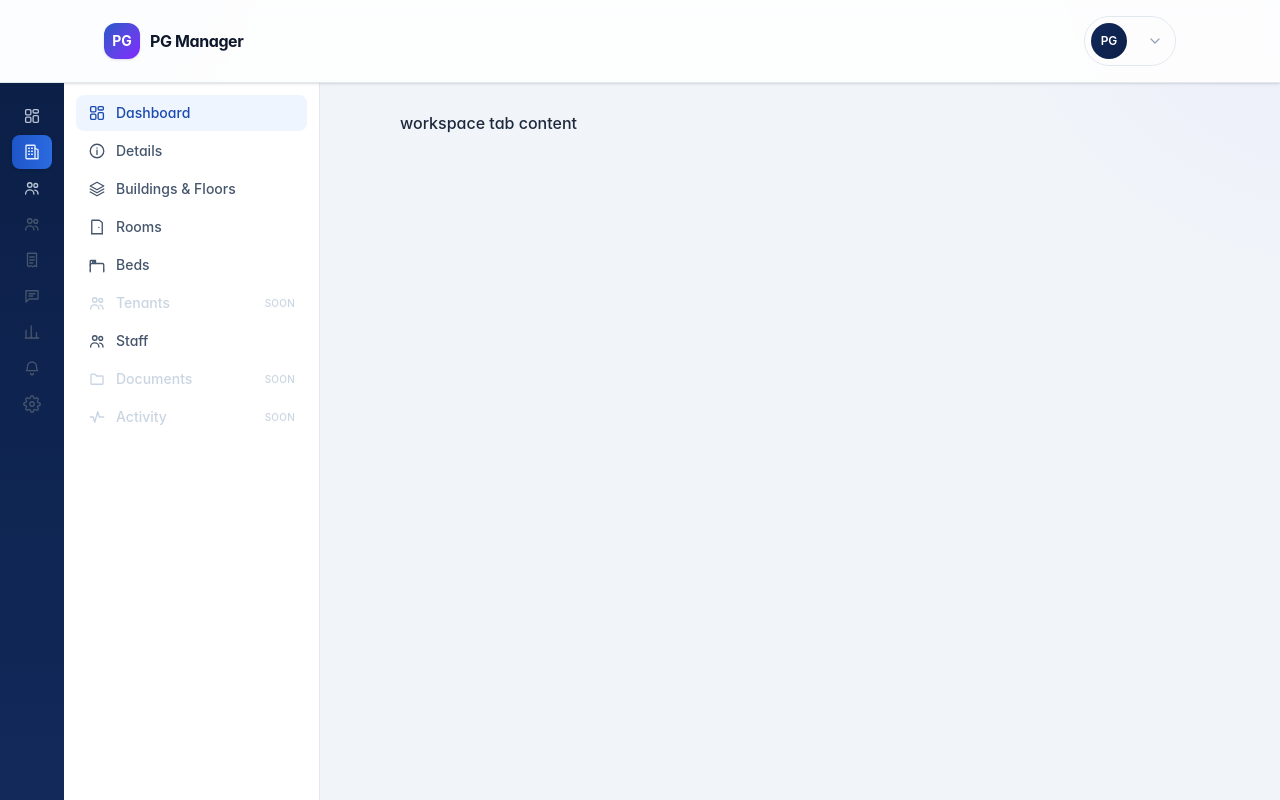
Scenario: OwnerLayout — workspace sidebar visibility › collapses the primary nav to icons inside a workspace, expanding only on hover
expect the link "Rooms" is shown: met, box [88,218,162,236]
Hover over the link named "Properties" at [32, 152], box [12,135,52,169]
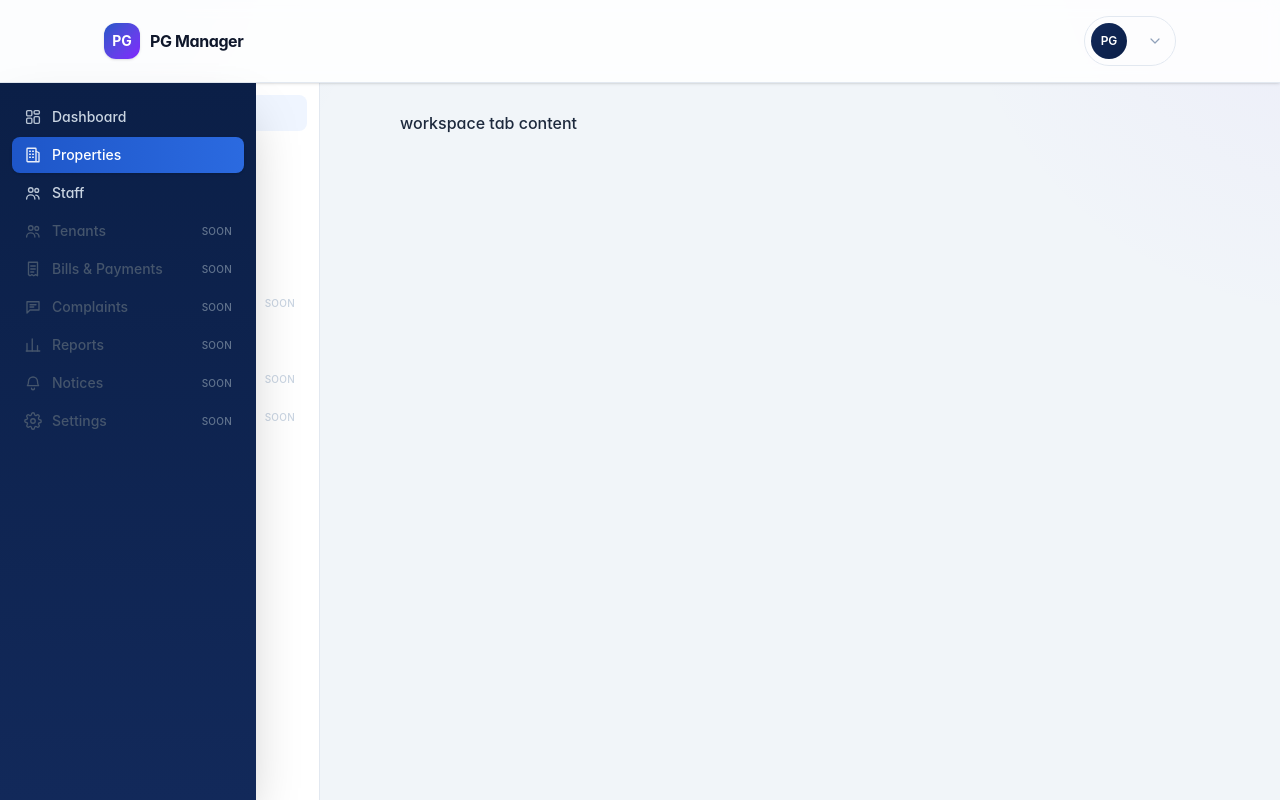
expect the link "Properties" is shown: met
Move the pointer off the link "Properties", box [12,137,244,173]
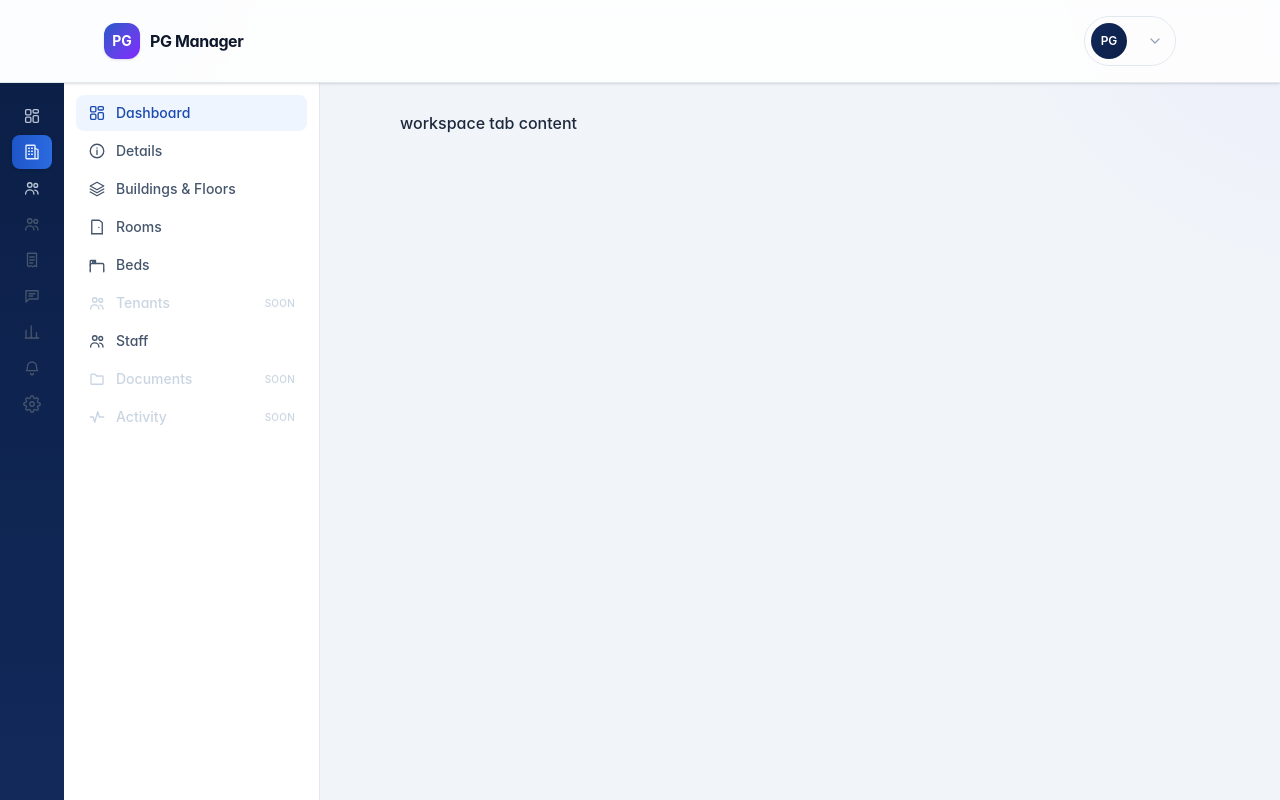
expect the link named "Properties" no longer shows "Properties": met, box [12,135,52,169]
